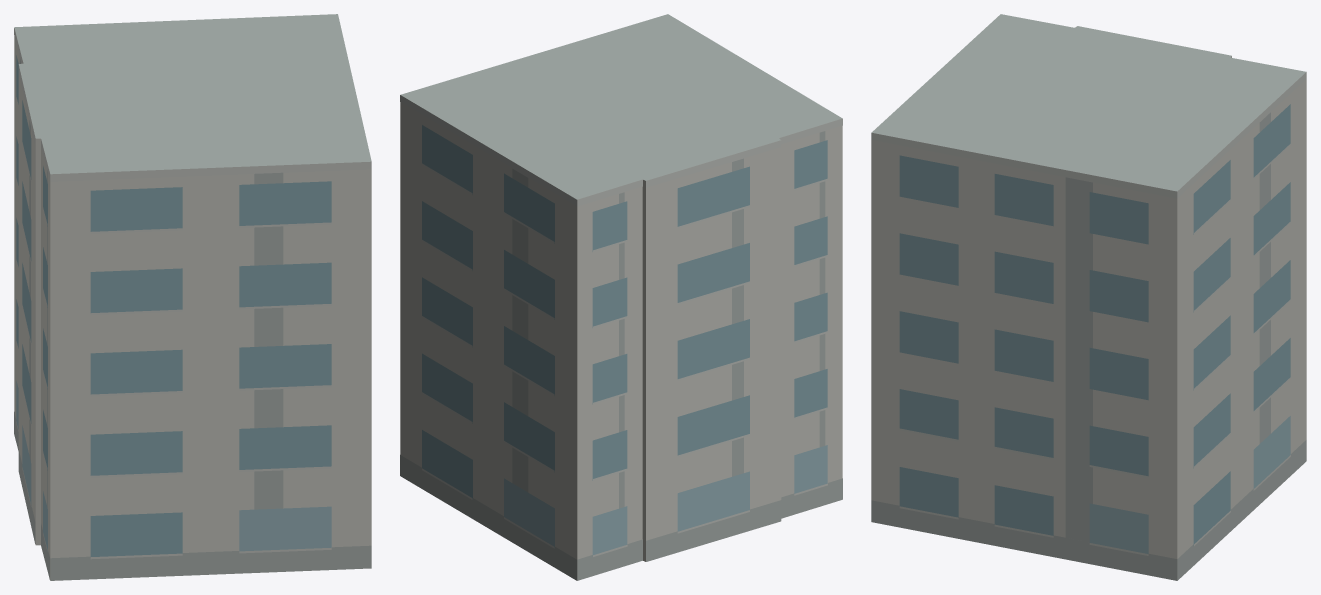
File: survey-upis-32523949.glb
The picture shows the model from 3 angles, left to right: view 1: azimuth 30°, elevation 25°; view 2: azimuth 150°, elevation 25°; view 3: azimuth 270°, elevation 25°; orthographic projection. The views are drawn at different scales.
Parts seen in each view (by area): view 1: survey-upis-32523949.tmp; view 2: survey-upis-32523949.tmp; view 3: survey-upis-32523949.tmp.
Boxes of the visible parts, x1,y1,x2,y2 form: survey-upis-32523949.tmp: [14, 14, 371, 580]; survey-upis-32523949.tmp: [400, 14, 842, 580]; survey-upis-32523949.tmp: [871, 14, 1306, 580].
Bounding box in the file's own units: 12.82 × 13.1 × 13.28.
